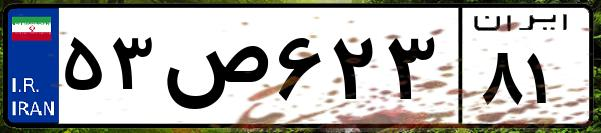1: (525, 38, 570, 115)
2: (330, 28, 385, 110)
3: (385, 28, 445, 110), (110, 28, 158, 98)
5: (57, 26, 110, 100)
6: (270, 28, 330, 110)
8: (475, 38, 525, 113)
ص: (158, 20, 270, 120)
